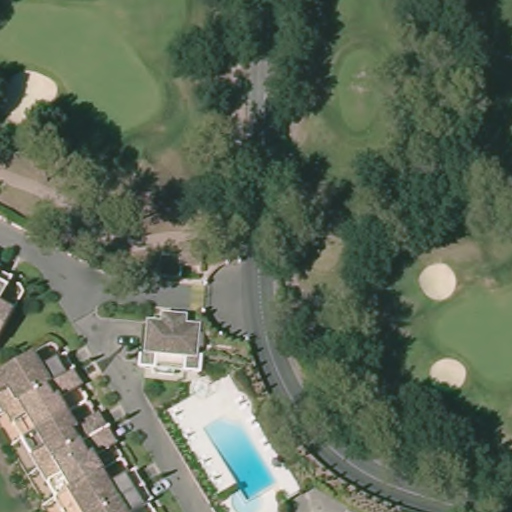pool: (200, 405, 284, 505)
